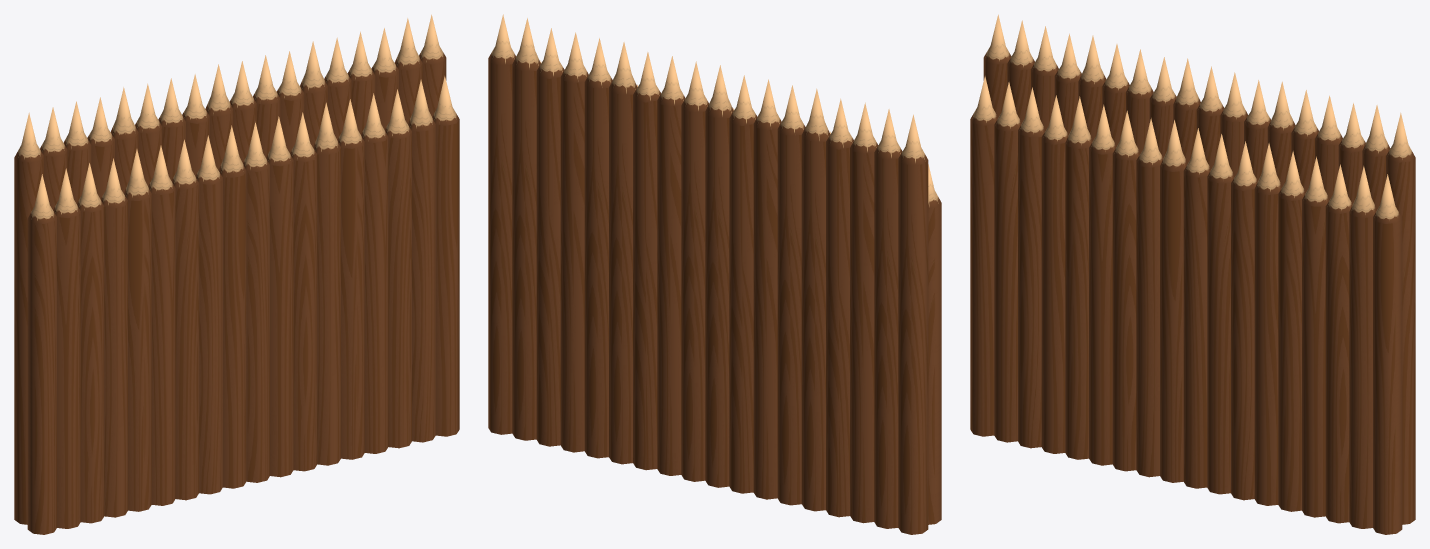
File: woodenwall001.fbx
The picture shows the model from 3 angles, left to right: view 1: azimuth 30°, elevation 25°; view 2: azimuth 150°, elevation 25°; view 3: azimuth 330°, elevation 25°; orthographic projection.
Visible parts, largest first — view 1: woodenwall001; view 2: woodenwall001; view 3: woodenwall001.
Part boxes in pixels (<box>): woodenwall001: <box>14,14,459,534</box>; woodenwall001: <box>488,14,941,534</box>; woodenwall001: <box>970,14,1415,534</box>.
Size of the model in its own units: 33.34 by 30.6 by 3.63.
